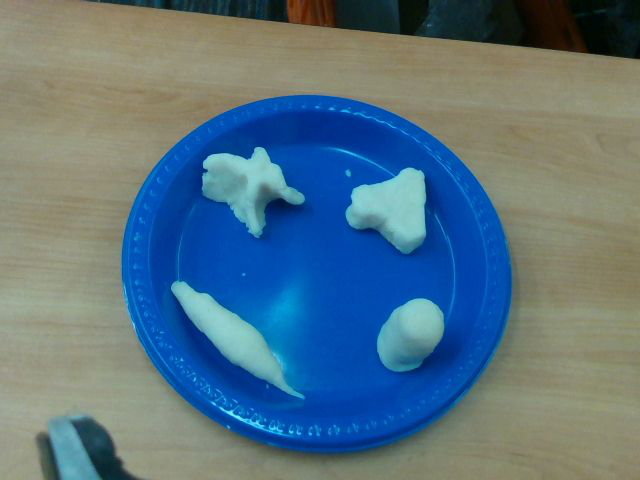mashed_potato: (171, 281, 304, 398), (202, 147, 304, 237), (346, 168, 426, 253), (377, 298, 445, 372)
